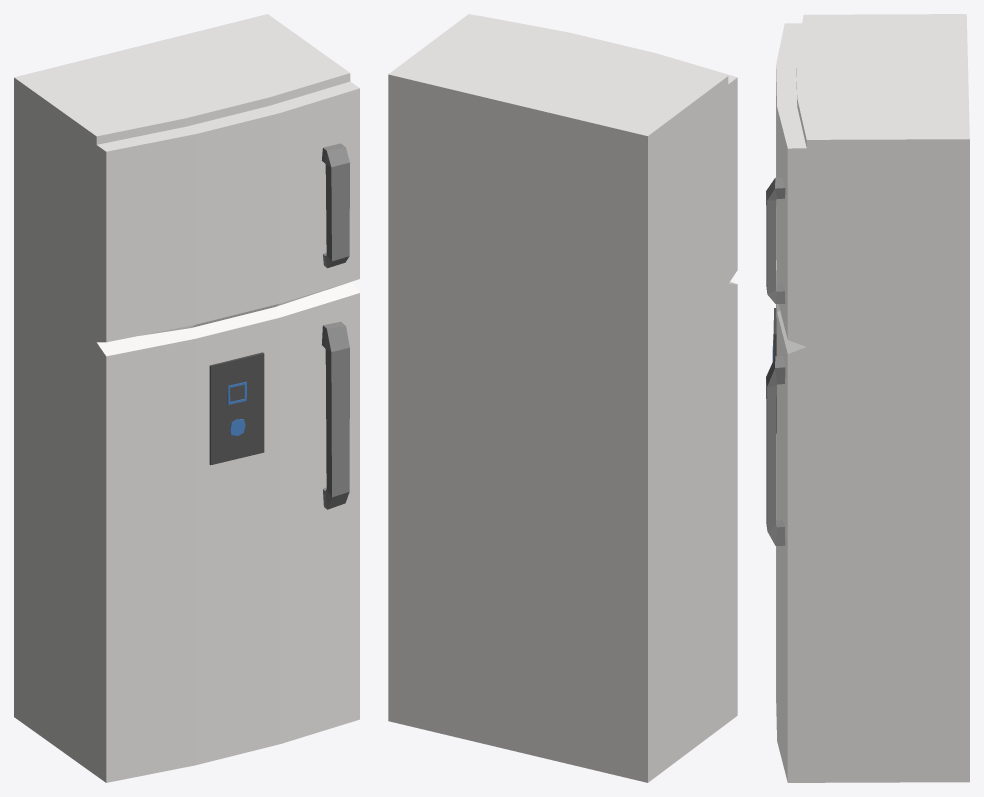
Rendered from Fridge_3.fbx.
3 views of the same model, side by side, from view 1: azimuth 30°, elevation 25°; view 2: azimuth 150°, elevation 25°; view 3: azimuth 270°, elevation 25° (orthographic).
Parts seen in each view (by area): view 1: Fridge_3; view 2: Fridge_3; view 3: Fridge_3.
Part boxes in pixels (left/top/right/bottom): Fridge_3: left=14, top=14, right=359, bottom=782; Fridge_3: left=388, top=14, right=737, bottom=782; Fridge_3: left=766, top=14, right=969, bottom=782.
Size of the model in its own units: 129 by 88.3 by 307.
